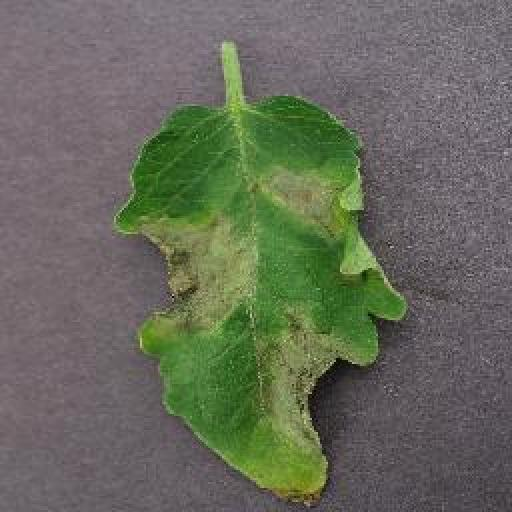disease_tomato: (116, 94, 408, 510)
